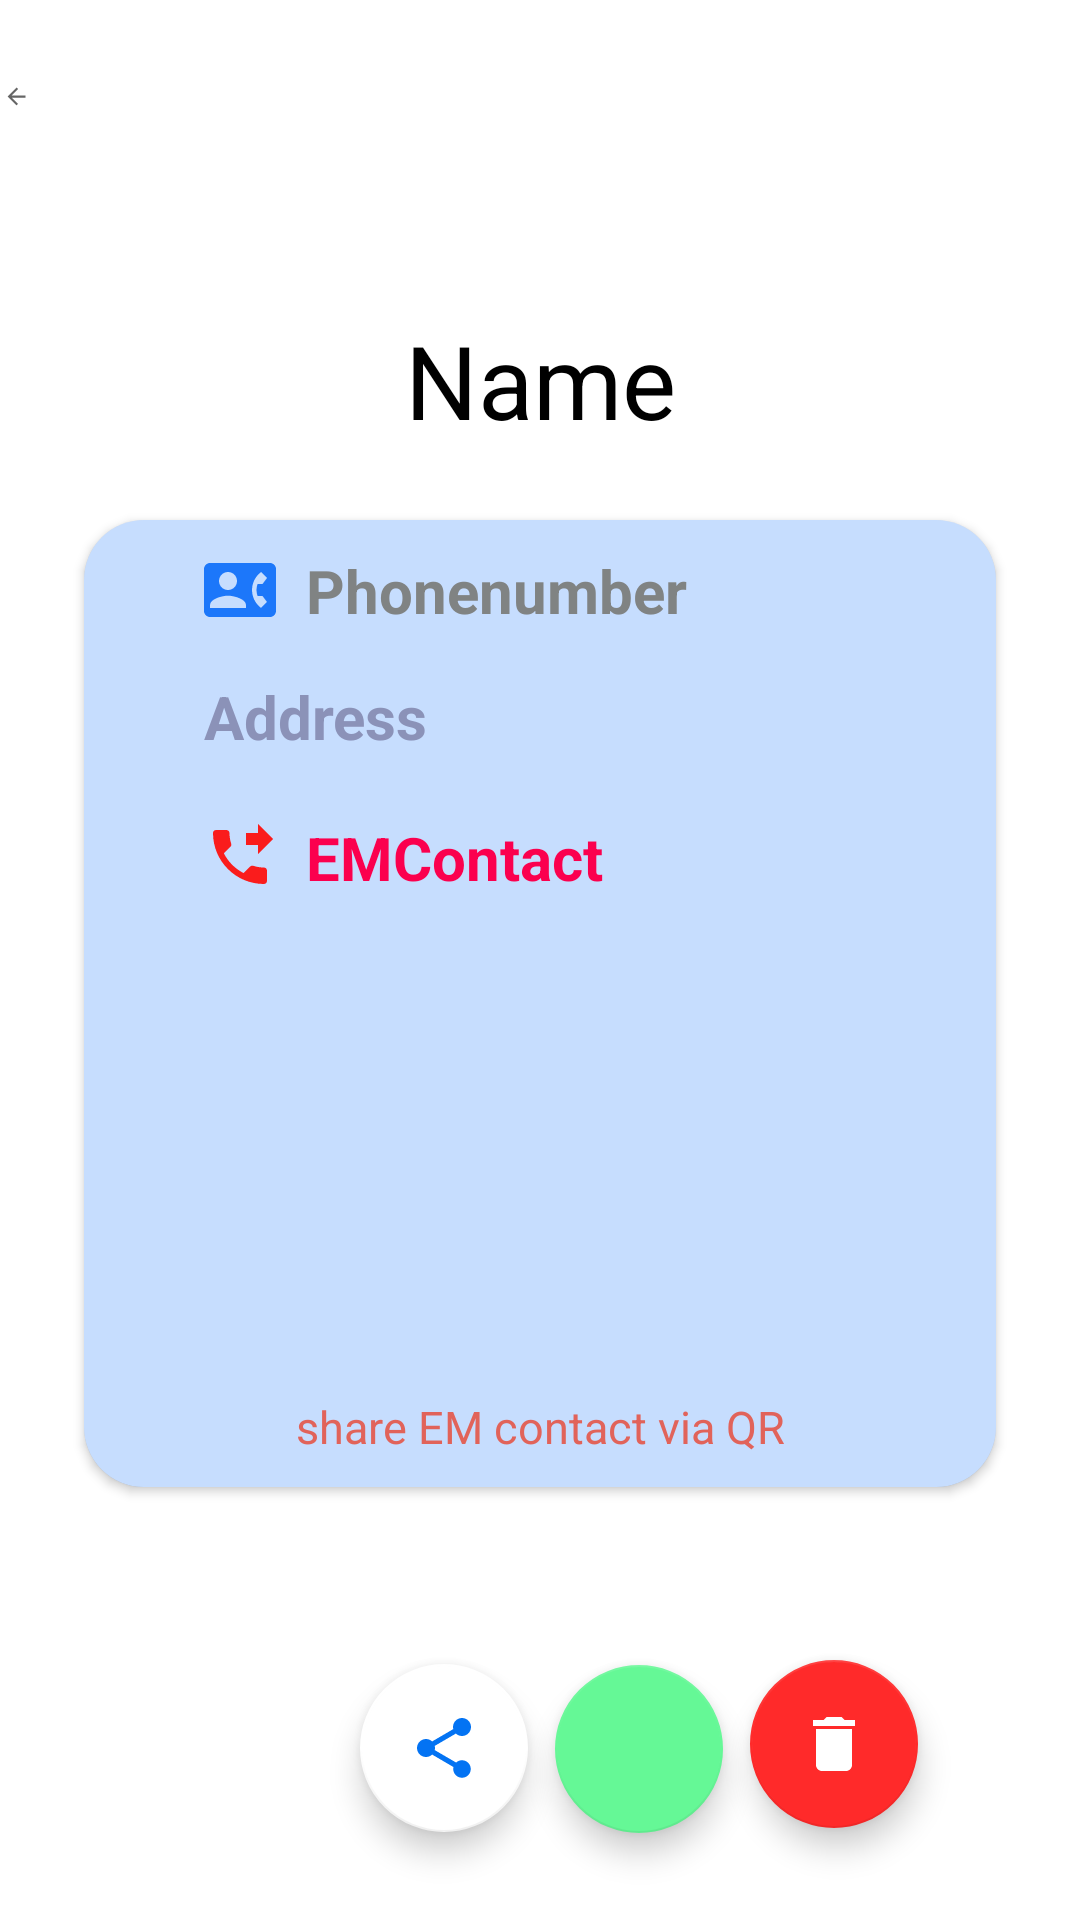

Screen size 1080px x 1920px. Icon name, then its box in pixels as (x1, y1, x2, y2):
DELETE: (750, 1660, 918, 1828)
SHARE: (360, 1718, 527, 1832)
